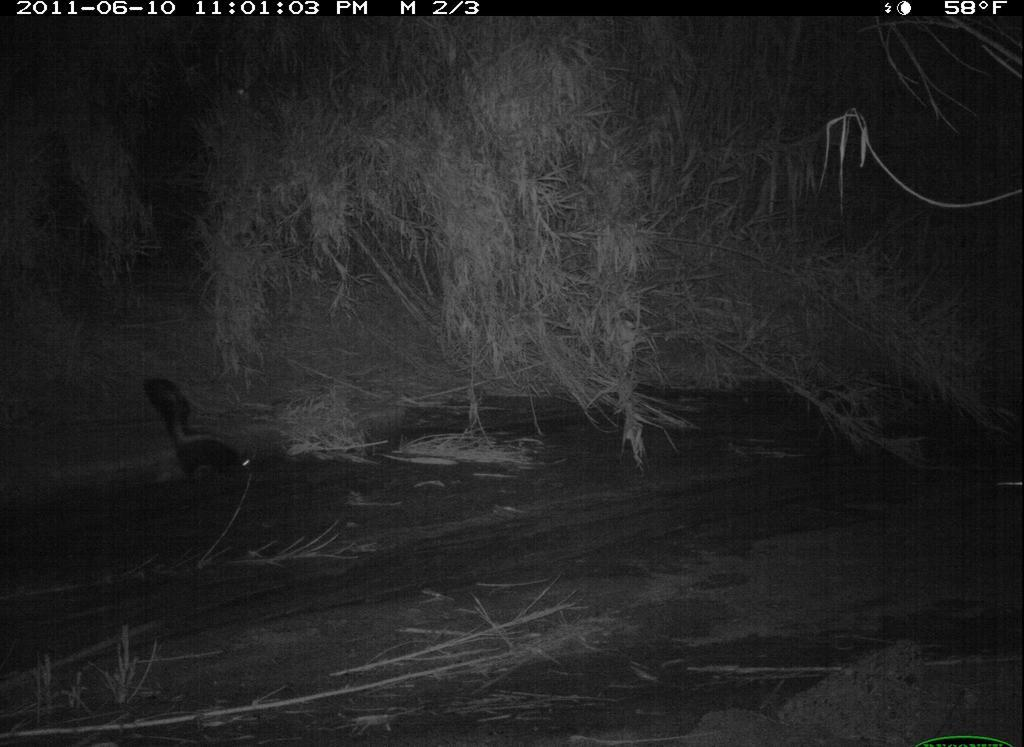skunk: (137, 370, 268, 487)
